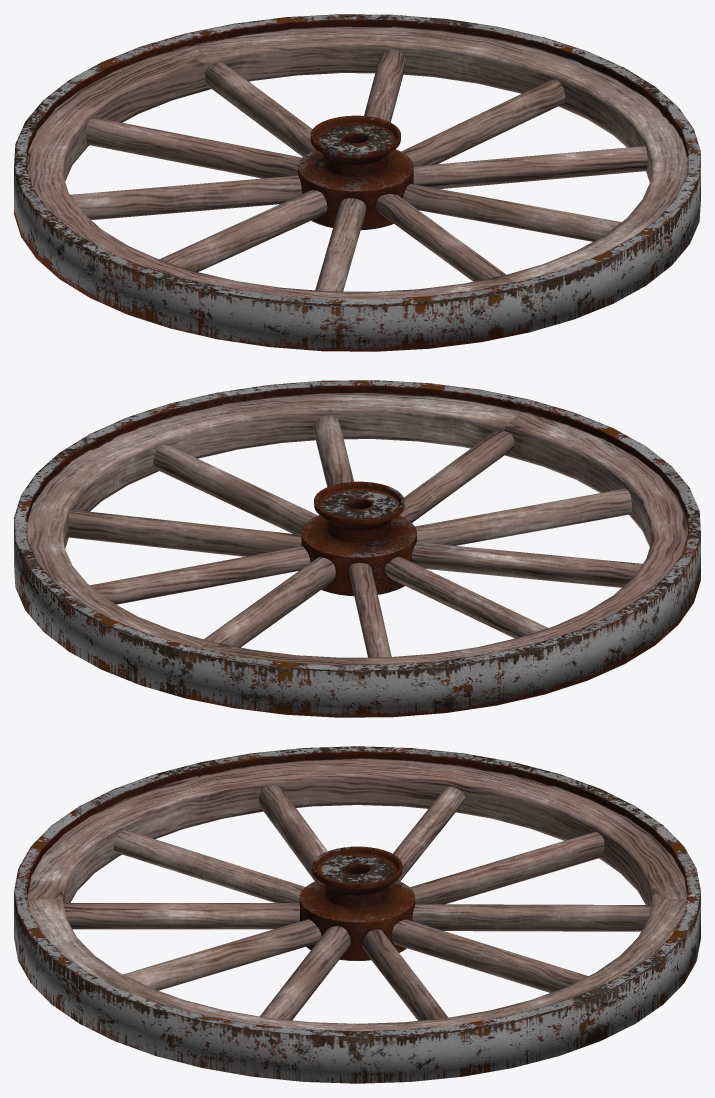
File: old_cart_wheel.glb
3 renders of one model, top to bottom at view 1: azimuth 30°, elevation 25°; view 2: azimuth 150°, elevation 25°; view 3: azimuth 270°, elevation 25°, orthographic.
Parts seen in each view (by area): view 1: Cylinder001__0; view 2: Cylinder001__0; view 3: Cylinder001__0.
Boxes of the visible parts, bbox=[...] form: Cylinder001__0: bbox=[14, 14, 700, 351]; Cylinder001__0: bbox=[14, 380, 700, 717]; Cylinder001__0: bbox=[14, 746, 700, 1083].
Bounding box in the file's own units: 1.97 × 0.2345 × 1.97.
Materials: 1 (1 with a texture image).
